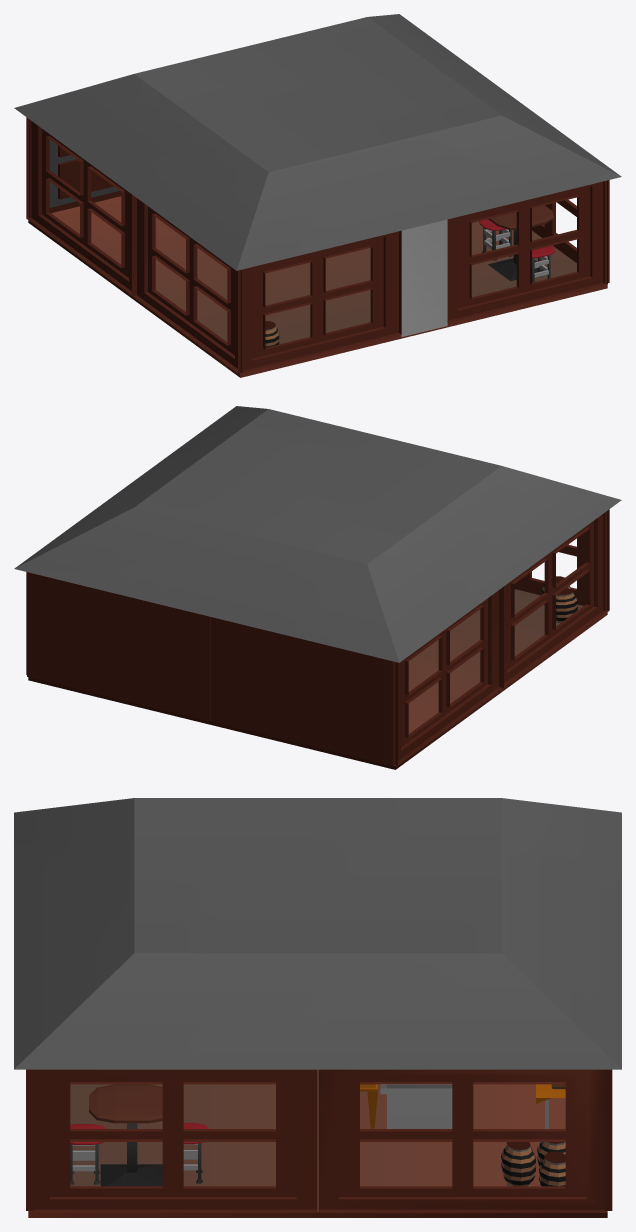
File: ShopkeeperHouseApplied.fbx
The picture shows the model from 3 angles, top to bottom: view 1: azimuth 30°, elevation 25°; view 2: azimuth 150°, elevation 25°; view 3: azimuth 270°, elevation 25°; orthographic projection. The views are drawn at different scales.
Visible parts, largest first — view 1: Cube.001, Wall Group, Floor, Cube, Wall Back, CoffeeTable, Stool.002, Stool.001; view 2: Cube.001, Wall Back, Wall Group, Floor, Barrel.005; view 3: Cube.001, Wall Group, Floor, CoffeeTable, BarTop, Barrel.003, Wall Back, Stool.001, Barrel.001, Stool.002.
Boxes of the visible parts, box(x1,y1,x2,y2) form: Cube.001: box(14, 14, 621, 270); Wall Group: box(26, 117, 609, 373); Floor: box(28, 196, 607, 377); Cube: box(401, 219, 447, 336); Wall Back: box(29, 119, 121, 218); CoffeeTable: box(488, 205, 554, 281); Stool.002: box(479, 219, 512, 260); Stool.001: box(532, 245, 555, 282); Cube.001: box(14, 406, 621, 662); Wall Back: box(27, 572, 395, 766); Wall Group: box(26, 509, 609, 765); Floor: box(28, 589, 607, 769); Barrel.005: box(556, 588, 577, 624); Cube.001: box(14, 798, 621, 1069); Wall Group: box(26, 1069, 606, 1212); Floor: box(28, 1069, 607, 1217); CoffeeTable: box(89, 1084, 162, 1186); BarTop: box(380, 1084, 452, 1128); Barrel.003: box(501, 1142, 535, 1186); Wall Back: box(605, 1069, 612, 1210); Stool.001: box(70, 1124, 105, 1184); Barrel.001: box(539, 1151, 565, 1186); Stool.002: box(183, 1123, 208, 1183).
Size of the model in its own units: 1680 by 670 by 1680.
